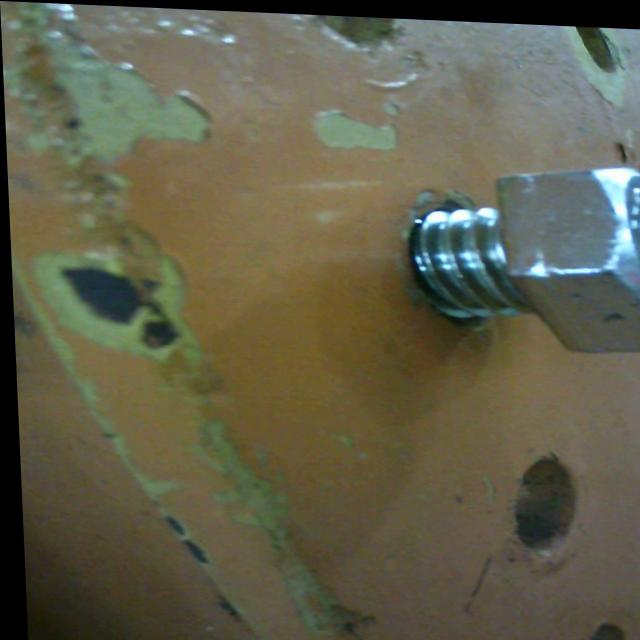Loose bolt: (411, 153, 640, 347)
Missing bolt: (502, 452, 578, 549), (573, 21, 619, 69), (563, 614, 625, 640)
Regular bolt: (409, 135, 640, 346)
